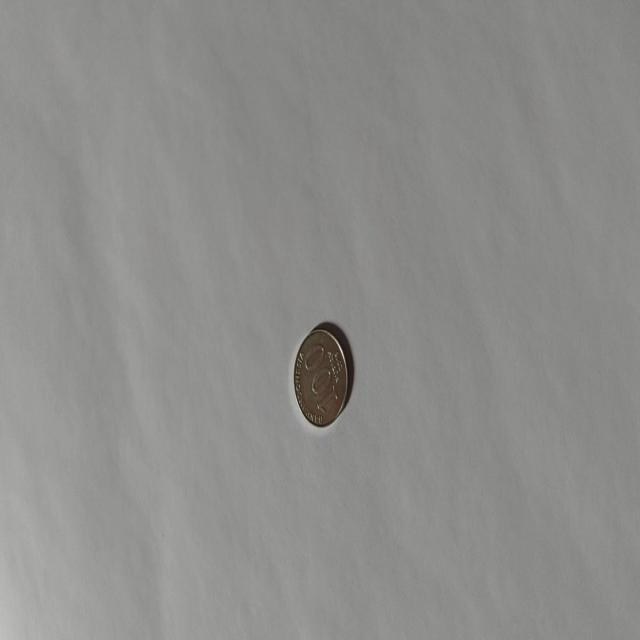seratus rupiah: (292, 326, 348, 428)
